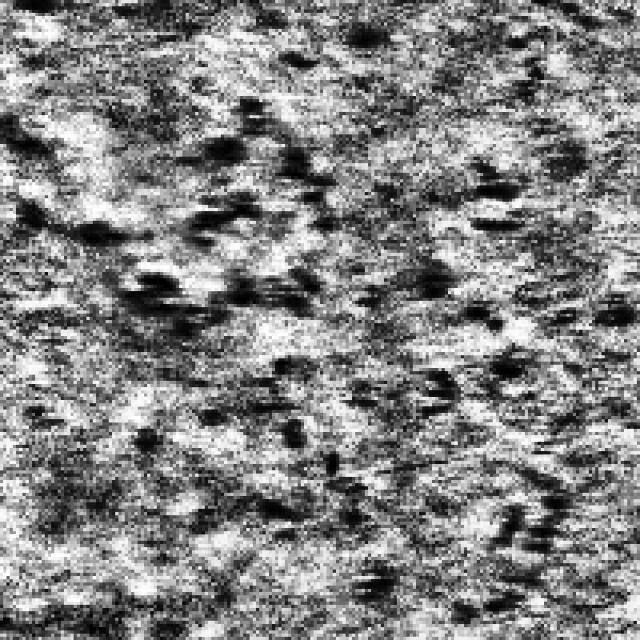Crazing: (364, 160, 566, 618), (70, 86, 324, 333)
